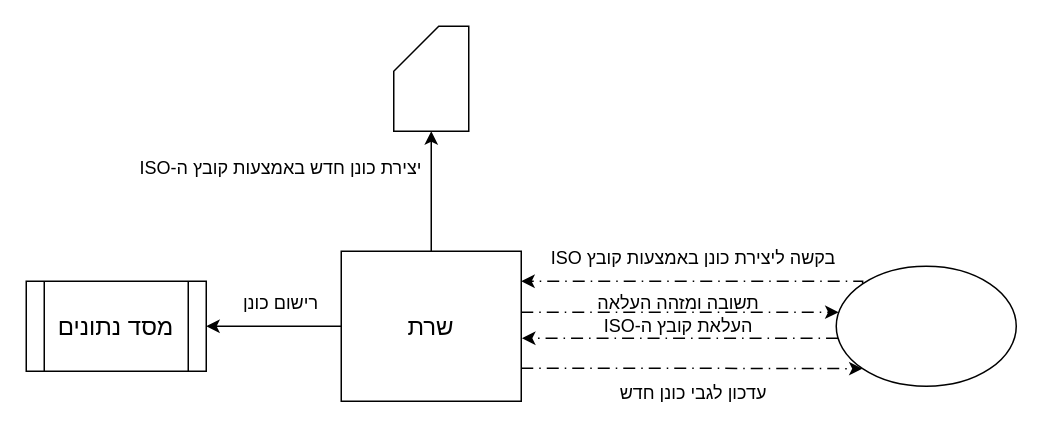
Image size: 1043x443. Some labels were removed from this diagram. The shapes that lost their labels are listed below. From the top down, each one's centre as x and y in pixels, then its label:
(430,78): כונן
(925,325): לקוח
